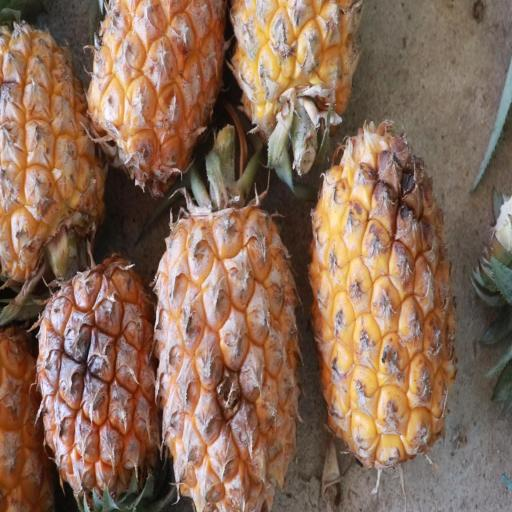Pineapple - v8 v1: (304, 115, 456, 473), (150, 164, 300, 512), (36, 243, 164, 512), (0, 0, 108, 287), (84, 0, 228, 188), (239, 0, 373, 176)
